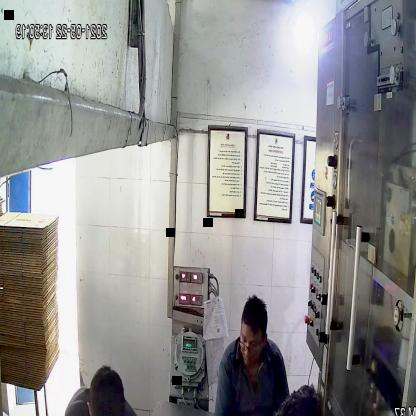goggles: (234, 331, 271, 358)
